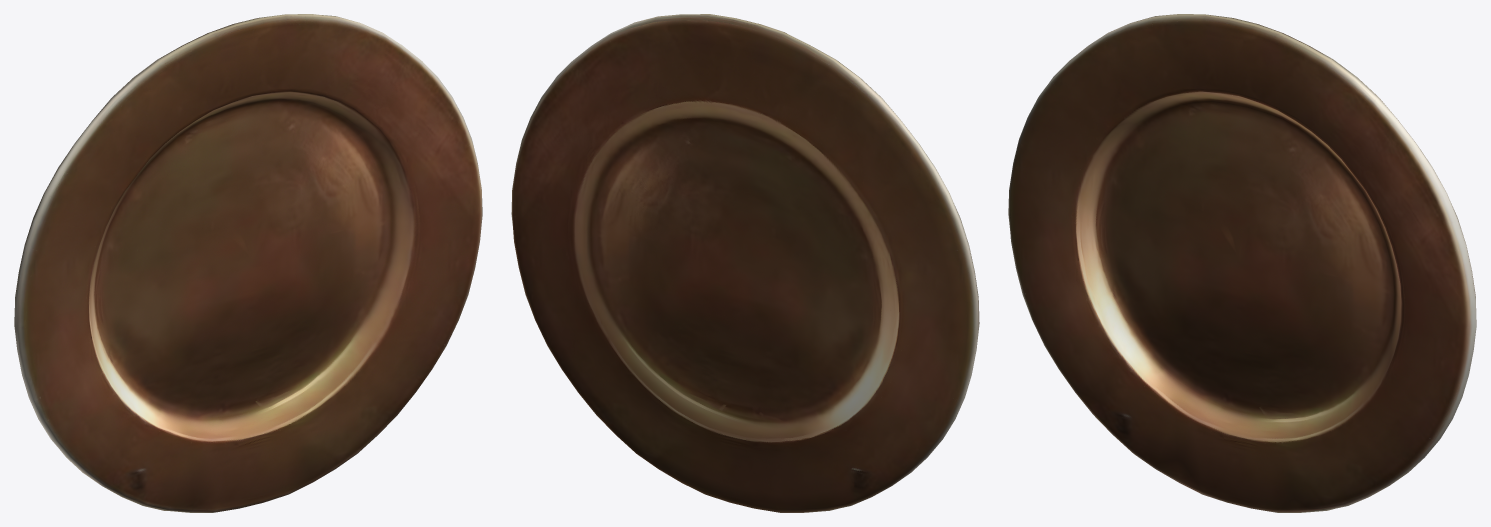
Rendered from Copper_Charger_Plate_0225004107_texture.glb.
3 renders of one model, left to right at view 1: azimuth 30°, elevation 25°; view 2: azimuth 150°, elevation 25°; view 3: azimuth 330°, elevation 25°, orthographic.
Parts seen in each view (by area): view 1: Mesh_0; view 2: Mesh_0; view 3: Mesh_0.
Boxes of the visible parts, x1,y1,x2,y2 form: Mesh_0: [14, 14, 482, 512]; Mesh_0: [511, 14, 979, 512]; Mesh_0: [1008, 14, 1476, 512].
Size of the model in its own units: 0.0256 by 0.0254 by 0.00121.
1 material, 1 textured.
